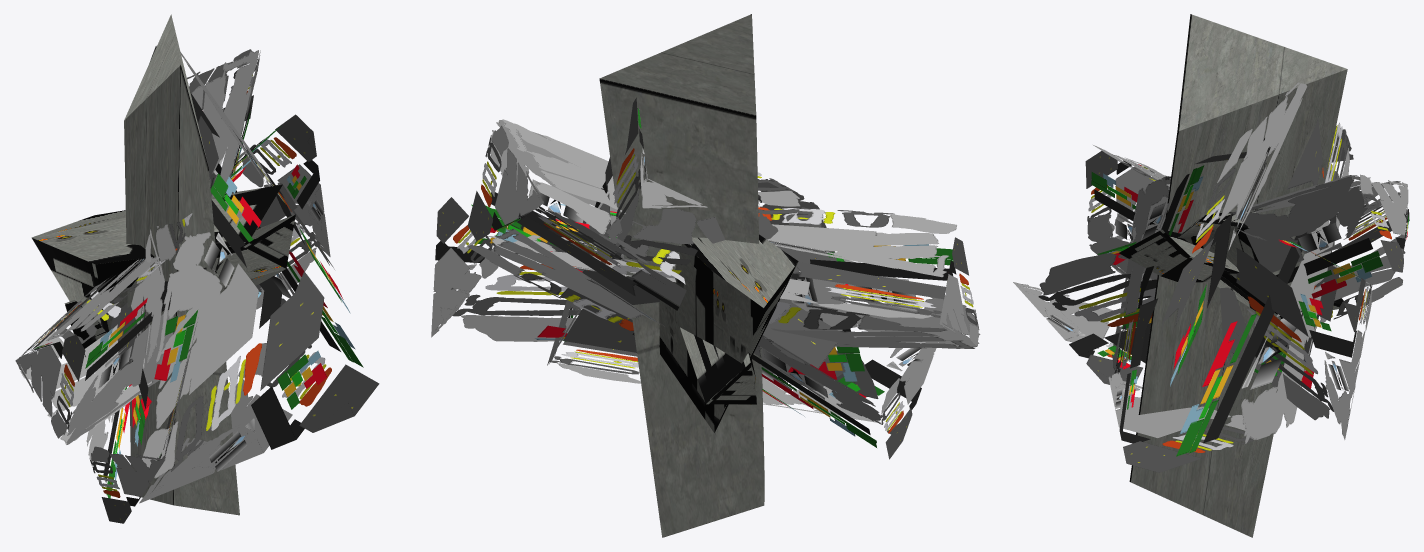
The model's file is Shrapnel_Zero.FBX.
3 views of the same model, side by side, from view 1: azimuth 30°, elevation 25°; view 2: azimuth 150°, elevation 25°; view 3: azimuth 270°, elevation 25° (orthographic). The views are drawn at different scales.
Visible parts, largest first — view 1: Shrapnel_004, Shrapnel_01, Shrapnel_002, Shrapnel_003, Shrapnel_005, Shrapnel_006; view 2: Shrapnel_01, Shrapnel_002, Shrapnel_003, Shrapnel_004, Shrapnel_005, Shrapnel_006; view 3: Shrapnel_01, Shrapnel_004, Shrapnel_003, Shrapnel_002, Shrapnel_006, Shrapnel_005.
Boxes of the visible parts, x1=… form: Shrapnel_004: x1=131, y1=46, x2=379, y2=503; Shrapnel_01: x1=124, y1=14, x2=239, y2=515; Shrapnel_002: x1=15, y1=114, x2=330, y2=444; Shrapnel_003: x1=86, y1=49, x2=260, y2=523; Shrapnel_005: x1=31, y1=184, x2=282, y2=332; Shrapnel_006: x1=64, y1=214, x2=295, y2=356; Shrapnel_01: x1=599, y1=14, x2=764, y2=537; Shrapnel_002: x1=431, y1=197, x2=980, y2=348; Shrapnel_003: x1=467, y1=119, x2=937, y2=459; Shrapnel_004: x1=547, y1=97, x2=880, y2=423; Shrapnel_005: x1=659, y1=234, x2=798, y2=432; Shrapnel_006: x1=680, y1=327, x2=756, y2=404; Shrapnel_01: x1=1129, y1=14, x2=1347, y2=537; Shrapnel_004: x1=1108, y1=82, x2=1353, y2=472; Shrapnel_003: x1=1013, y1=174, x2=1409, y2=386; Shrapnel_002: x1=1085, y1=145, x2=1372, y2=439; Shrapnel_006: x1=1119, y1=229, x2=1345, y2=309; Shrapnel_005: x1=1177, y1=207, x2=1283, y2=320.
Bounding box in the file's own units: 9.42 × 10.92 × 7.94.
Materials: 4 (4 with a texture image).
